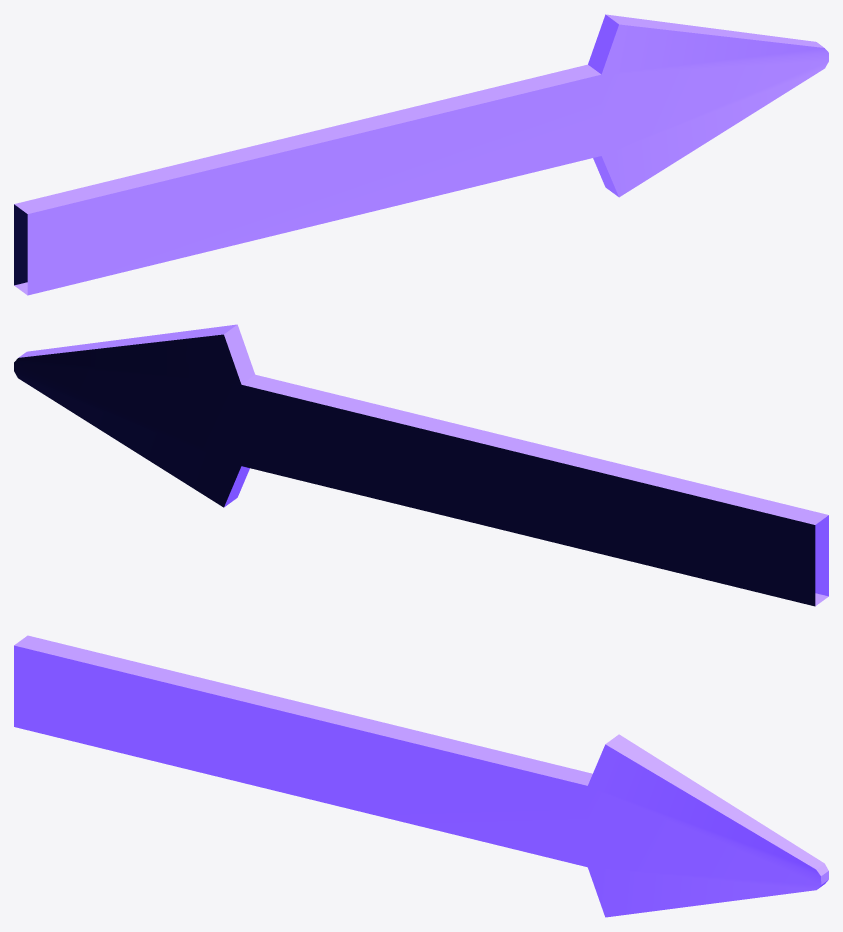
File: clapMeterNeedle.glb
3 views of the same model, one above another, from view 1: azimuth 30°, elevation 25°; view 2: azimuth 150°, elevation 25°; view 3: azimuth 330°, elevation 25° (orthographic).
Visible parts, largest first — view 1: arrow.001; view 2: arrow.001; view 3: arrow.001.
Part boxes in pixels (x1,y1,x2,y2): arrow.001: [14, 14, 828, 295]; arrow.001: [14, 324, 828, 606]; arrow.001: [14, 635, 828, 917].
Size of the model in its own units: 1.95 by 0.4015 by 0.0595.
2 materials, 1 textured.
